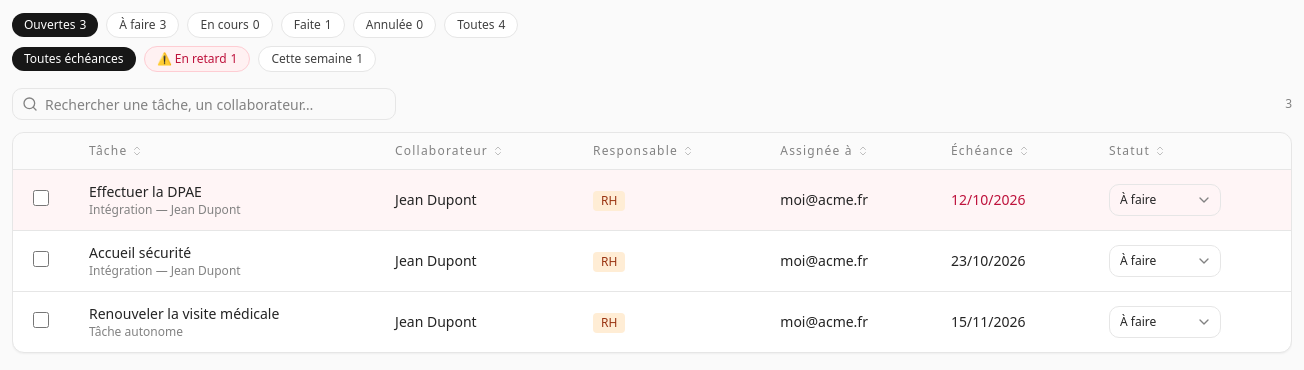
Scenario: TachesListe › filtre les tâches en retard, de la semaine et faites
Click the button "⚠ En retard 1": {"x": 197, "y": 59} [144, 46, 250, 72]
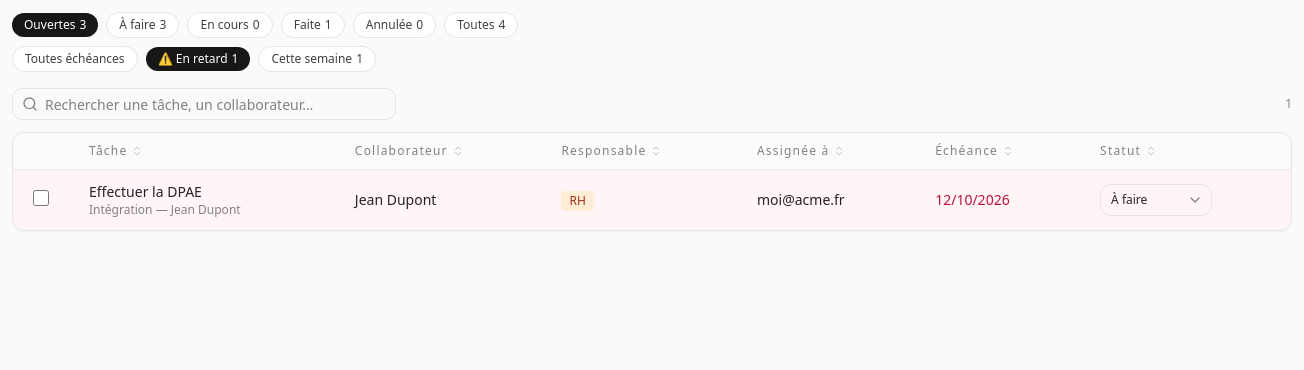
Check: the text "Effectuer la DPAE" is shown, box [89, 182, 202, 201]
Check: the text "Accueil sécurité" is gone
Click the button "Cette semaine 1": {"x": 317, "y": 59} [258, 46, 376, 72]
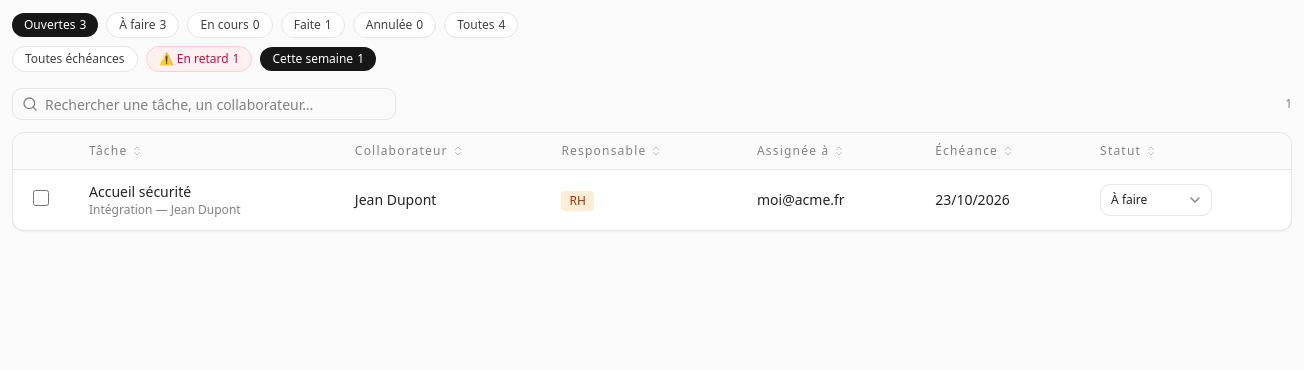
Check: the text "Accueil sécurité" is shown, box [89, 182, 191, 201]
Check: the text "Effectuer la DPAE" is gone
Click the button "Toutes échéances": {"x": 75, "y": 59} [12, 46, 138, 72]
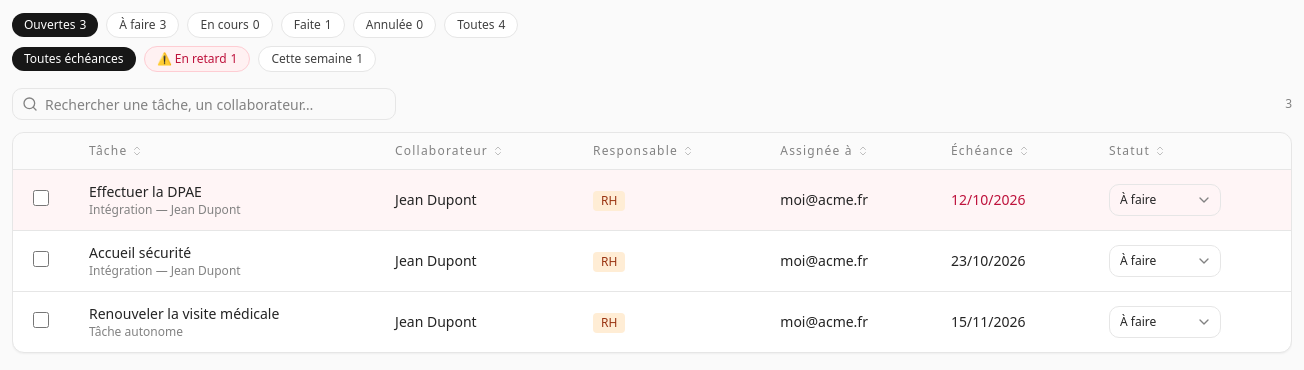
Click the button "Faite 1": {"x": 313, "y": 25} [281, 12, 345, 38]
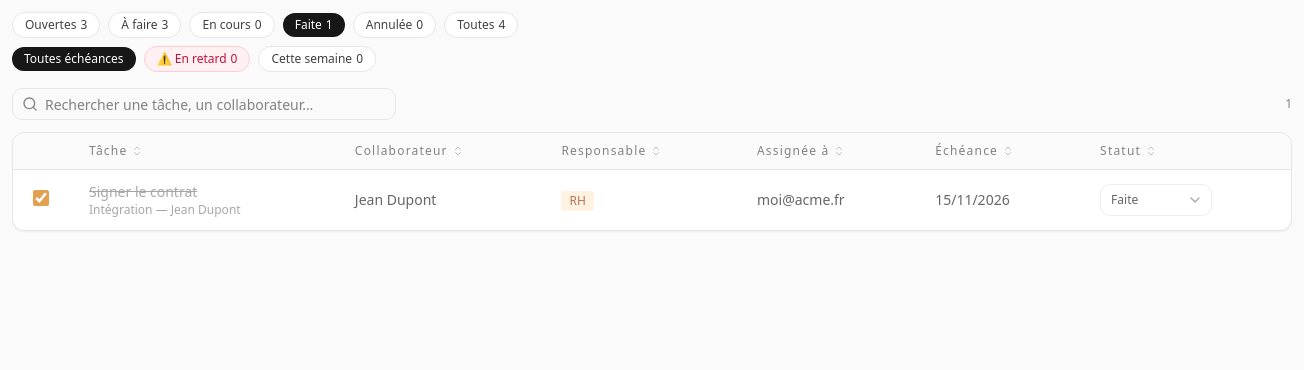
Check: the text "Signer le contrat" is shown, box [89, 182, 197, 201]
Check: the text "Accueil sécurité" is gone
